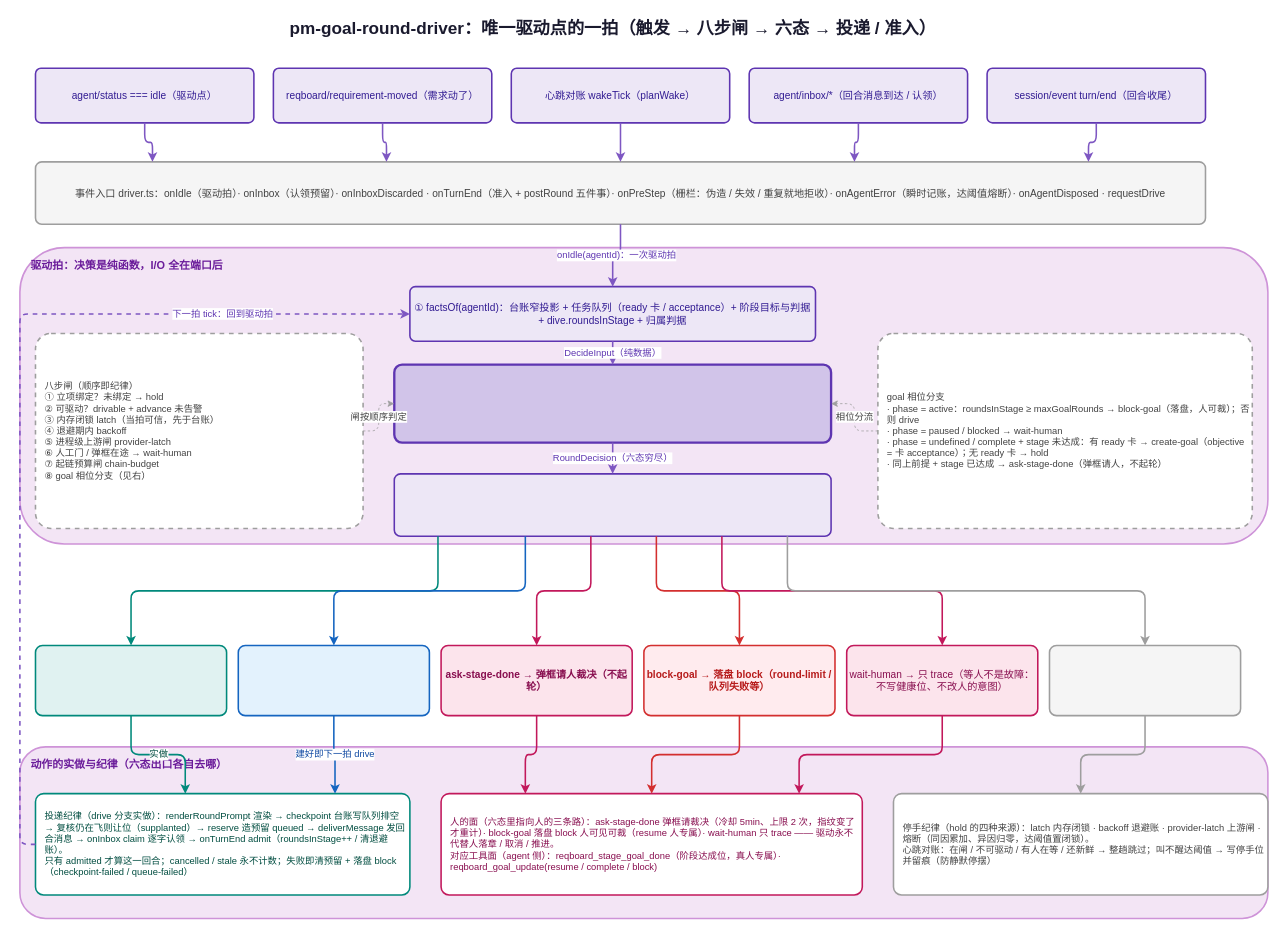
Some shapes in this 1282 by 932 pixel diagram are drawn without their labels. The centre of each missing label's shape, as x and y in pixels:
create-goal → pm-goal 建当前 goal（objective = 本拍卡的 acceptance）: point (333, 680)
drive → 起轮投递（预留 → 投递 → 准入）: point (130, 680)
hold → trace 留痕（闸拦下 / 无可跑之事，响亮不静默）: point (1144, 680)
② decideGoalRound(input)：八步闸 + goal 相位分支（纯函数、零 I/O、可穷举单测）: point (612, 403)
③ checkDecisionInvariants（INV-D1~D5）→ ④ actOnDecision：违背即抛（副作用不做）；六态 → 端口调用: point (612, 505)
